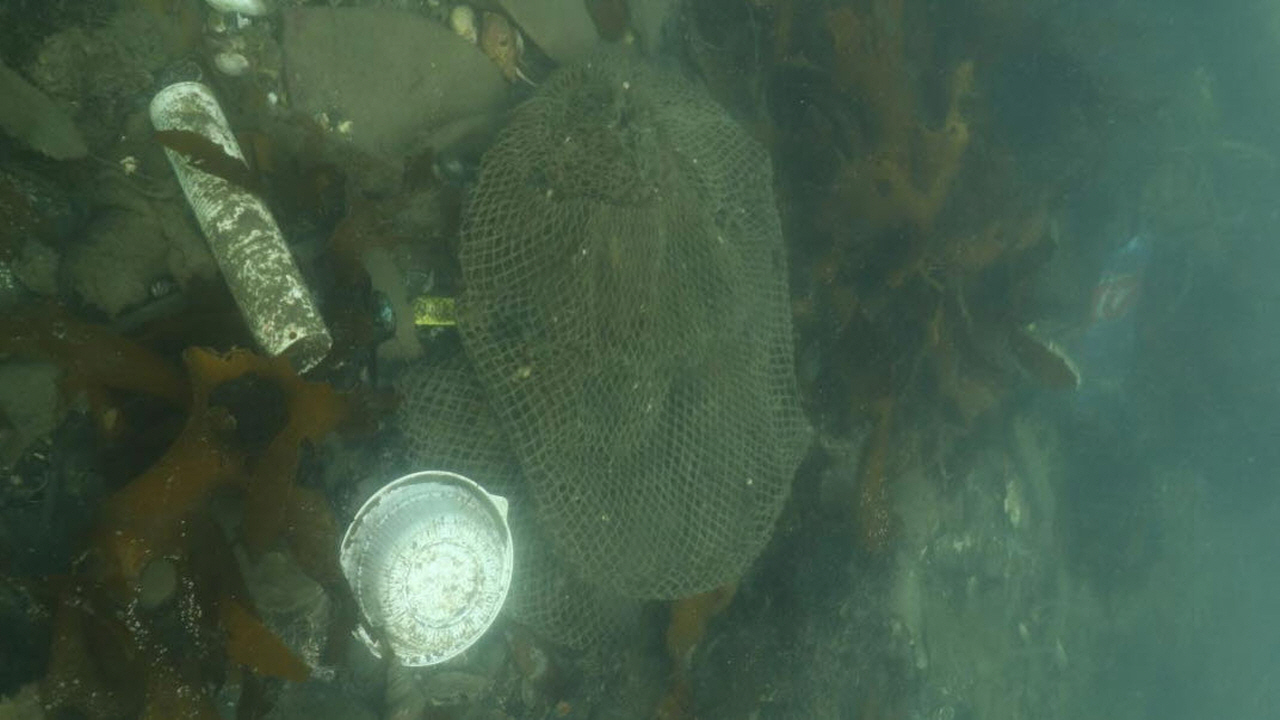fish net: (394, 57, 818, 655)
